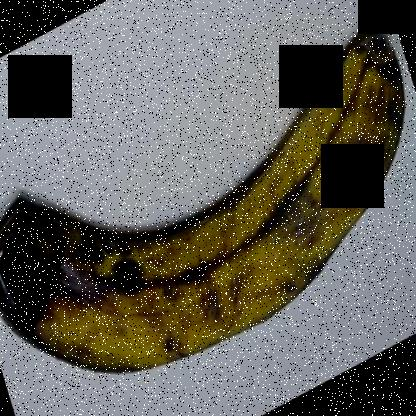overripe: (1, 23, 412, 399)
rotten: (1, 175, 94, 353)
